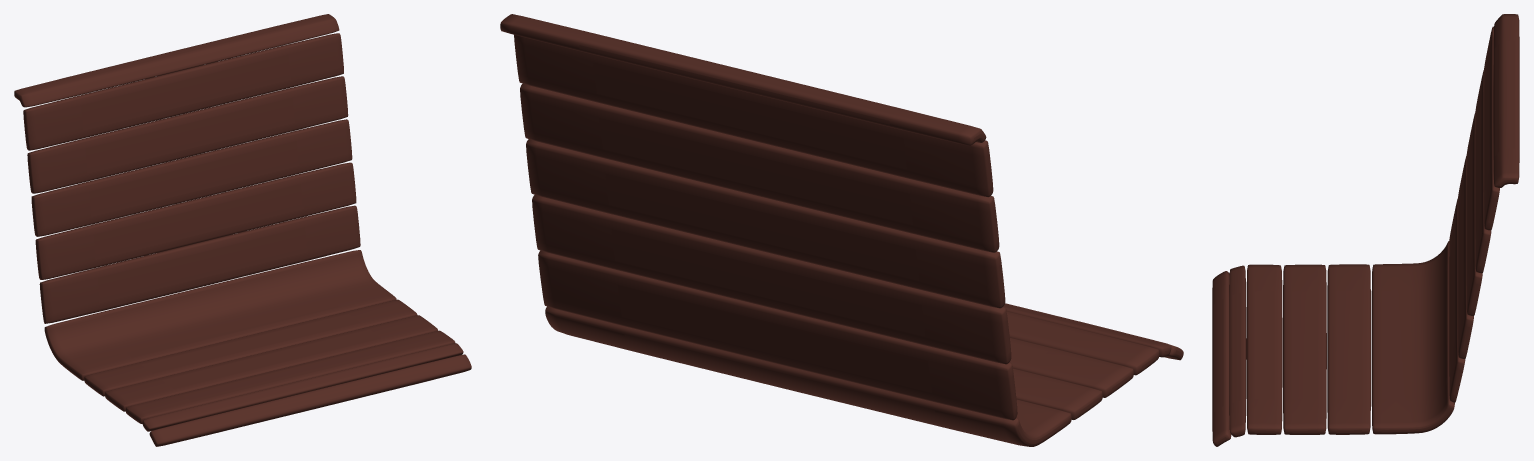
The model's file is chair_0_seat.fbx.
3 views of the same model, side by side, from view 1: azimuth 30°, elevation 25°; view 2: azimuth 150°, elevation 25°; view 3: azimuth 270°, elevation 25° (orthographic). The views are drawn at different scales.
Visible parts, largest first — view 1: seat; view 2: seat; view 3: seat.
Part boxes in pixels (bbox=[...]): seat: bbox=[14, 14, 471, 446]; seat: bbox=[500, 14, 1183, 446]; seat: bbox=[1212, 14, 1519, 446].
Bounding box in the file's own units: 40.01 × 30.81 × 31.6.
